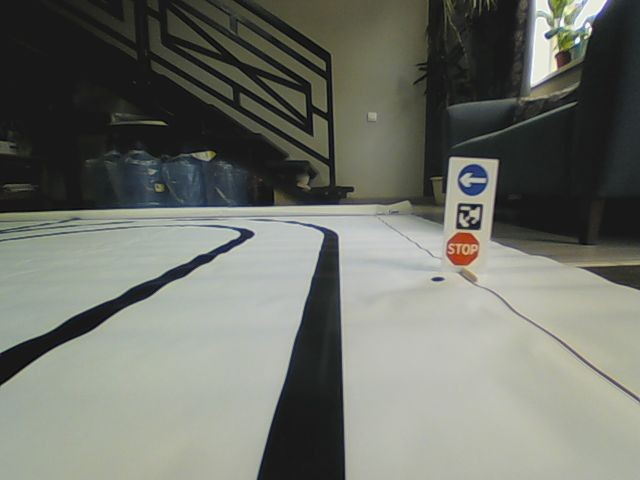Stop: (444, 230, 480, 267)
